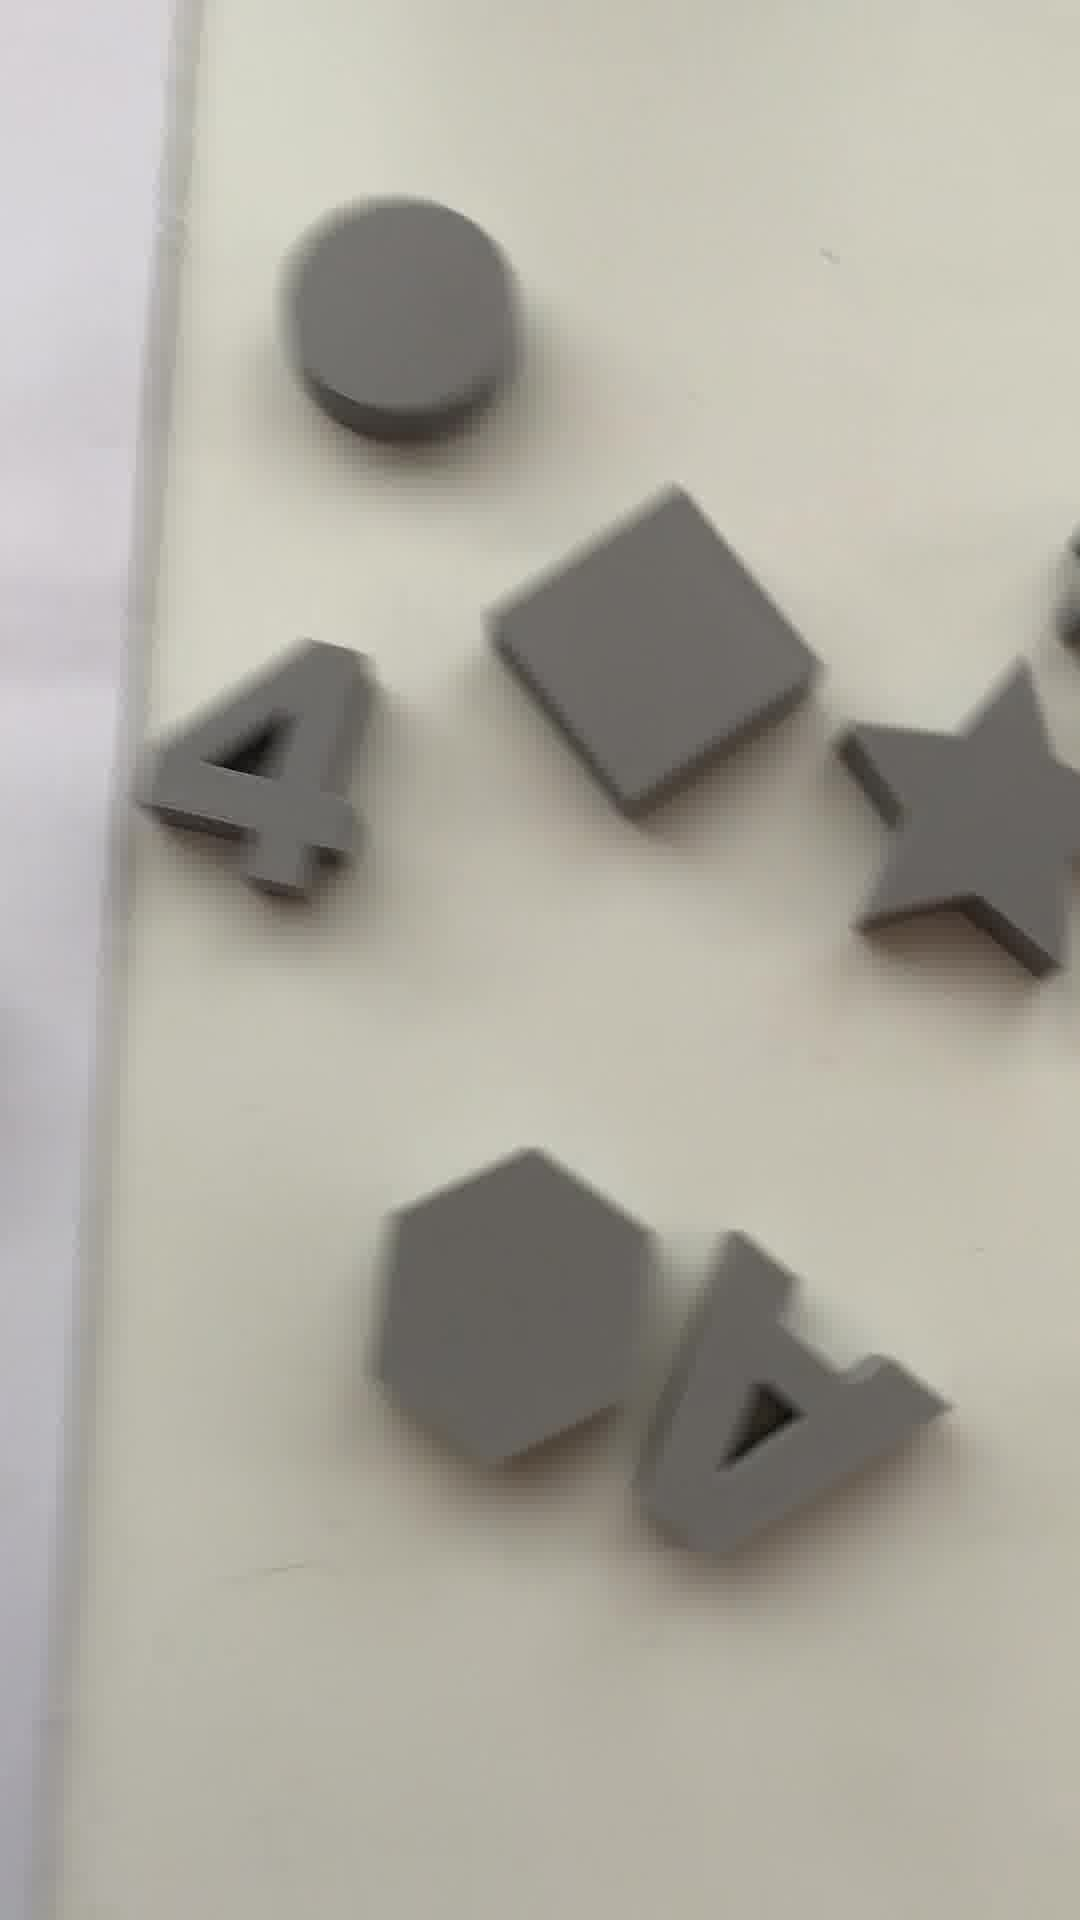Gray A-letter: (613, 1226, 947, 1565)
Gray circle: (278, 193, 531, 436)
Gray four: (142, 646, 390, 922)
Gray hexagon: (351, 1135, 665, 1465)
Gray square: (488, 493, 819, 799)
Gray star: (827, 663, 1080, 973)
